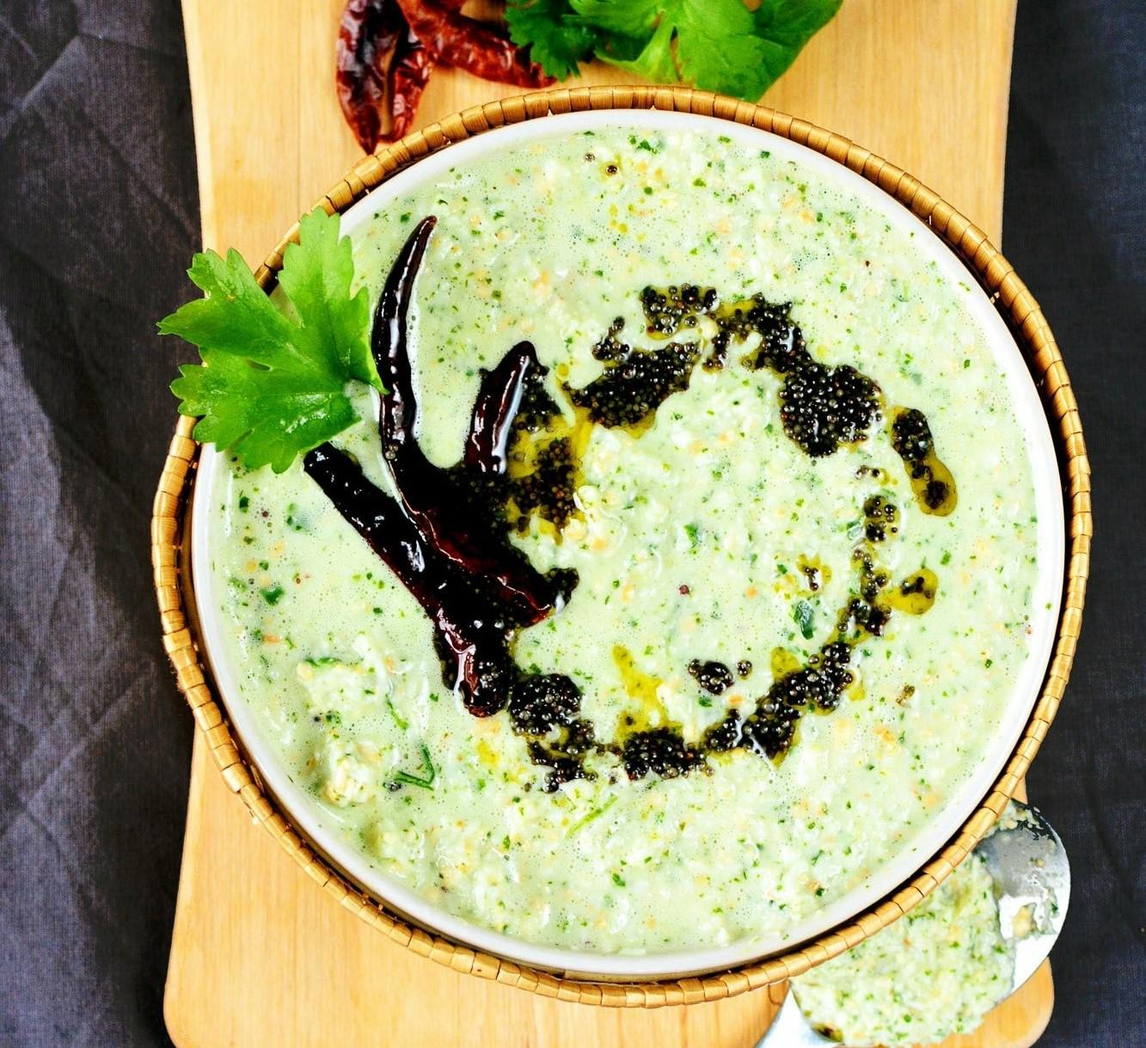CoconutChutney: (218, 130, 1034, 955)
